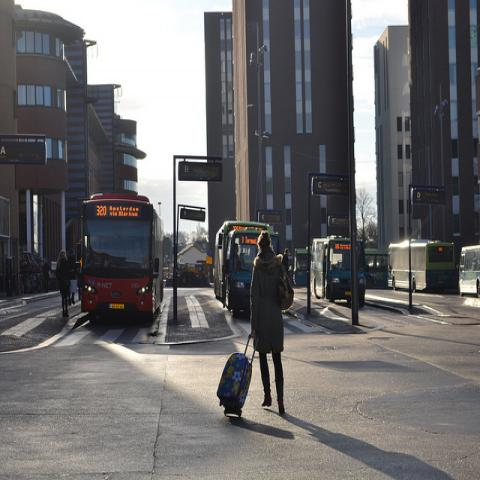bus: (81, 193, 165, 328), (226, 228, 278, 318), (214, 221, 270, 304), (387, 240, 456, 292), (311, 235, 351, 303), (456, 244, 479, 300), (364, 248, 389, 288), (293, 246, 312, 287)
